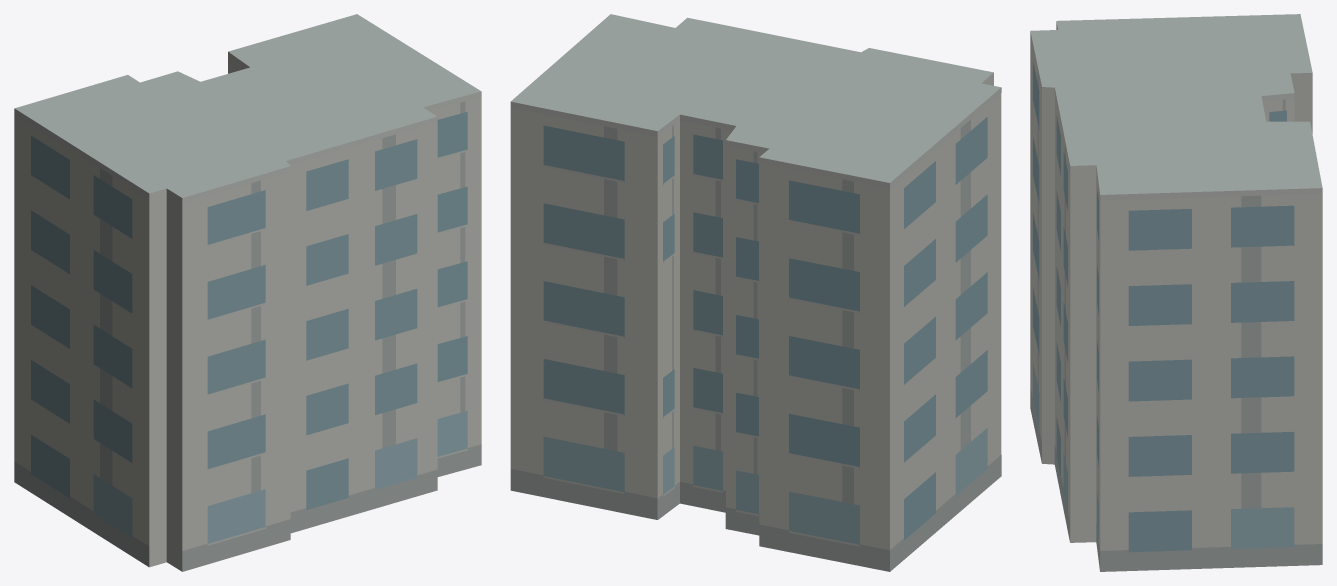
The model's file is survey-upis-32737187.glb.
3 views of the same model, side by side, from view 1: azimuth 30°, elevation 25°; view 2: azimuth 150°, elevation 25°; view 3: azimuth 270°, elevation 25° (orthographic). The views are drawn at different scales.
Visible parts, largest first — view 1: survey-upis-32737187.tmp; view 2: survey-upis-32737187.tmp; view 3: survey-upis-32737187.tmp.
Part boxes in pixels (x1,y1,x2,y2): survey-upis-32737187.tmp: (14,14,481,571); survey-upis-32737187.tmp: (510,14,1001,571); survey-upis-32737187.tmp: (1030,14,1322,571).
Bounding box in the file's own units: 16.84 × 16.35 × 11.5.
